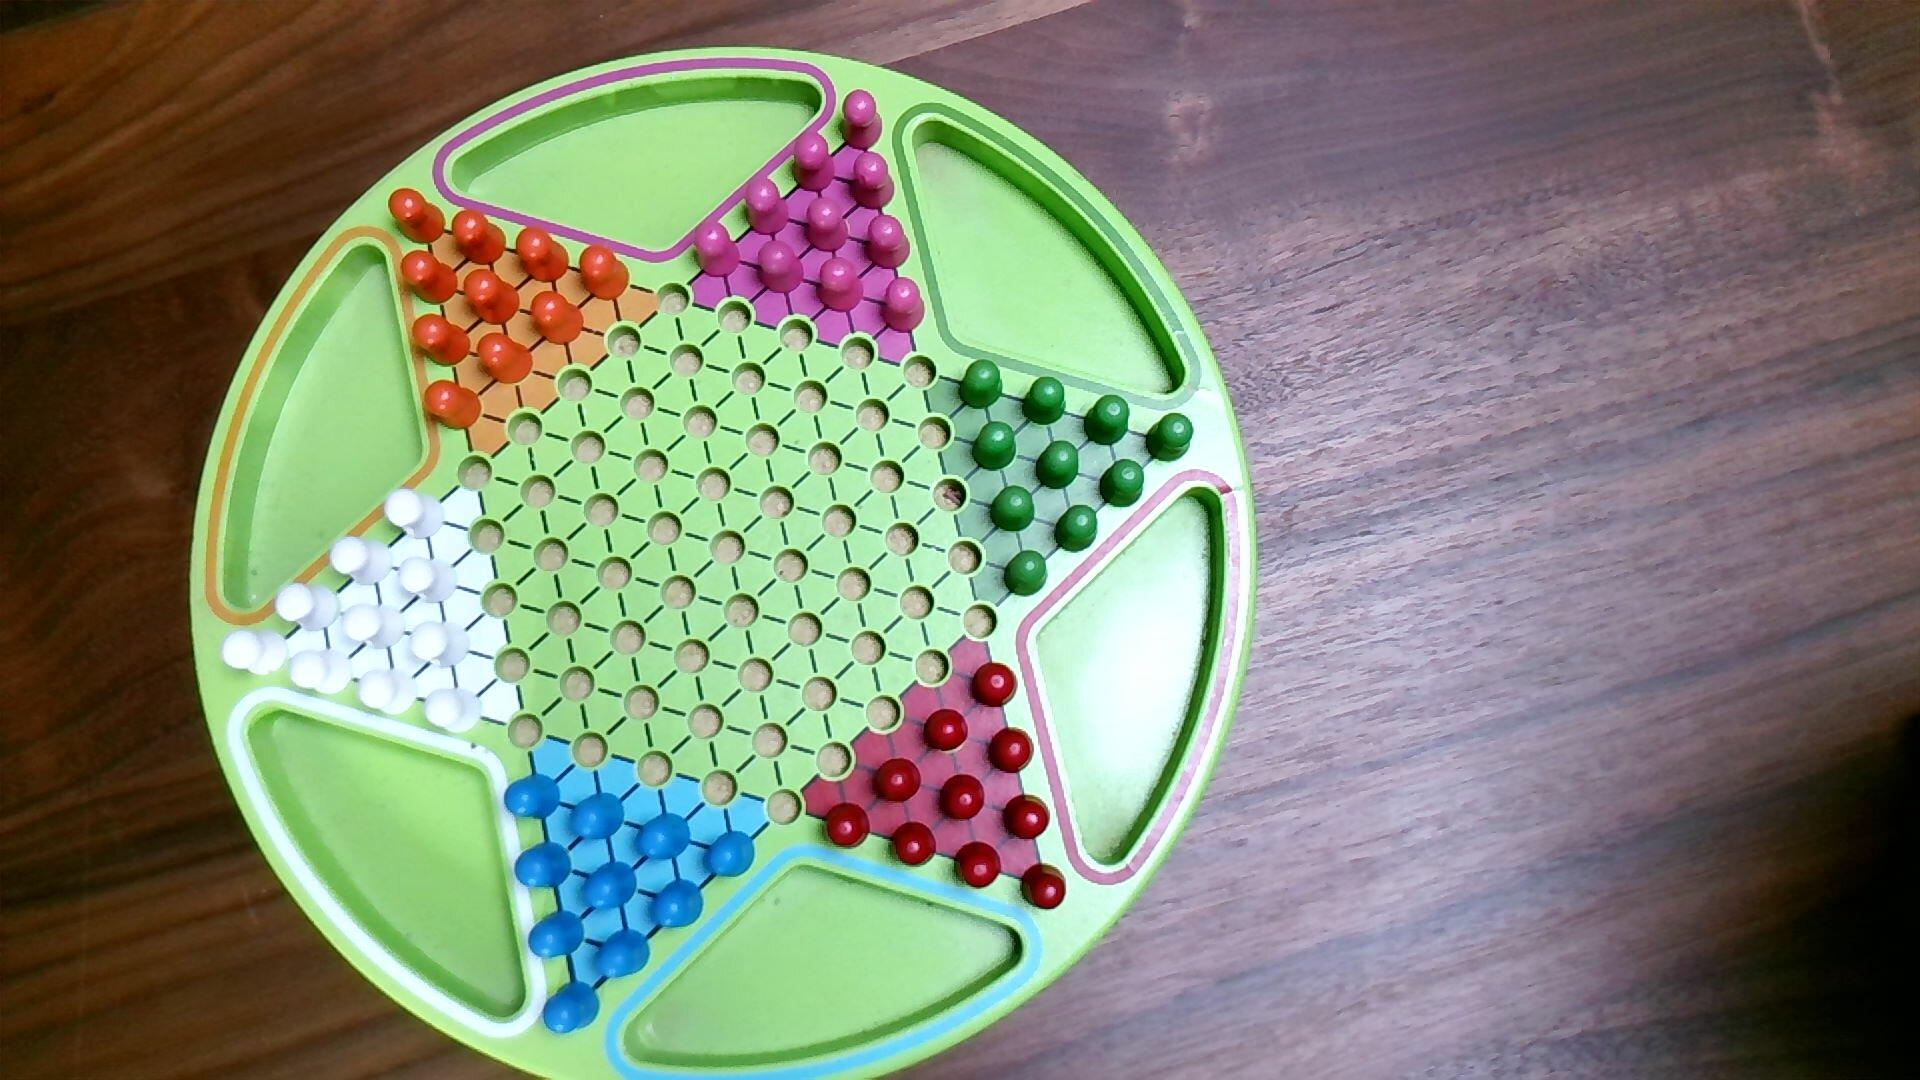B: (541, 977, 603, 1036), (593, 926, 653, 982), (636, 808, 694, 865), (514, 839, 574, 894), (568, 791, 628, 847), (582, 860, 640, 915), (529, 909, 588, 961), (502, 771, 564, 822), (703, 825, 758, 881), (650, 877, 705, 931)
G: (1081, 392, 1131, 450), (1145, 411, 1196, 465), (971, 419, 1021, 475), (956, 356, 1006, 411), (1021, 375, 1069, 429), (1034, 439, 1083, 492), (989, 484, 1036, 535), (1098, 459, 1146, 510), (1054, 502, 1100, 555), (1004, 549, 1050, 600)
O: (388, 185, 448, 247), (400, 247, 462, 307), (463, 266, 524, 327), (514, 224, 574, 286), (410, 313, 473, 371), (421, 377, 485, 434), (475, 330, 535, 386), (454, 207, 510, 266), (579, 243, 633, 305), (530, 287, 585, 347)
R: (869, 752, 924, 807), (1000, 791, 1054, 844), (823, 800, 874, 855), (935, 770, 986, 824), (969, 659, 1021, 711), (889, 818, 939, 870), (953, 839, 1004, 891), (920, 704, 971, 756), (986, 724, 1036, 775), (1021, 860, 1069, 913)
R2: (694, 216, 744, 282), (790, 127, 837, 195), (742, 174, 793, 237), (840, 86, 886, 154), (815, 255, 866, 315), (865, 210, 914, 272), (756, 239, 808, 295), (880, 276, 928, 336), (853, 149, 898, 214), (803, 195, 851, 255)
W: (222, 625, 291, 680), (330, 534, 398, 589), (276, 582, 344, 636), (384, 487, 448, 542), (409, 617, 473, 673), (356, 666, 423, 719), (342, 600, 409, 651), (287, 647, 356, 698), (396, 554, 460, 607), (423, 686, 485, 738)
